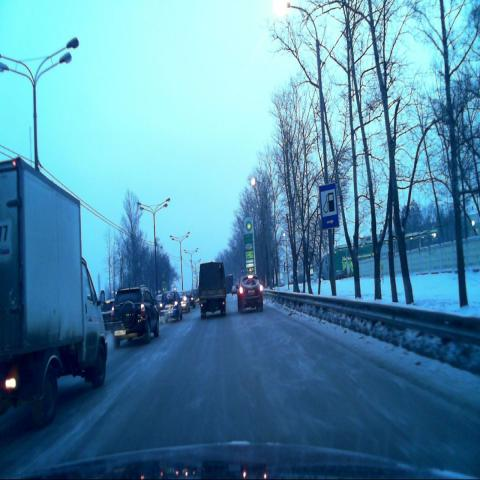7_3: (319, 182, 339, 229)
